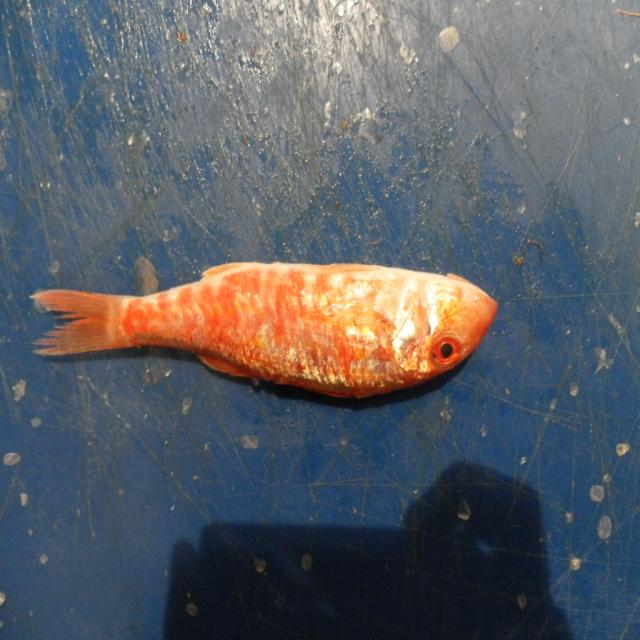Red-Mullet-kefal-: (31, 262, 498, 402)
